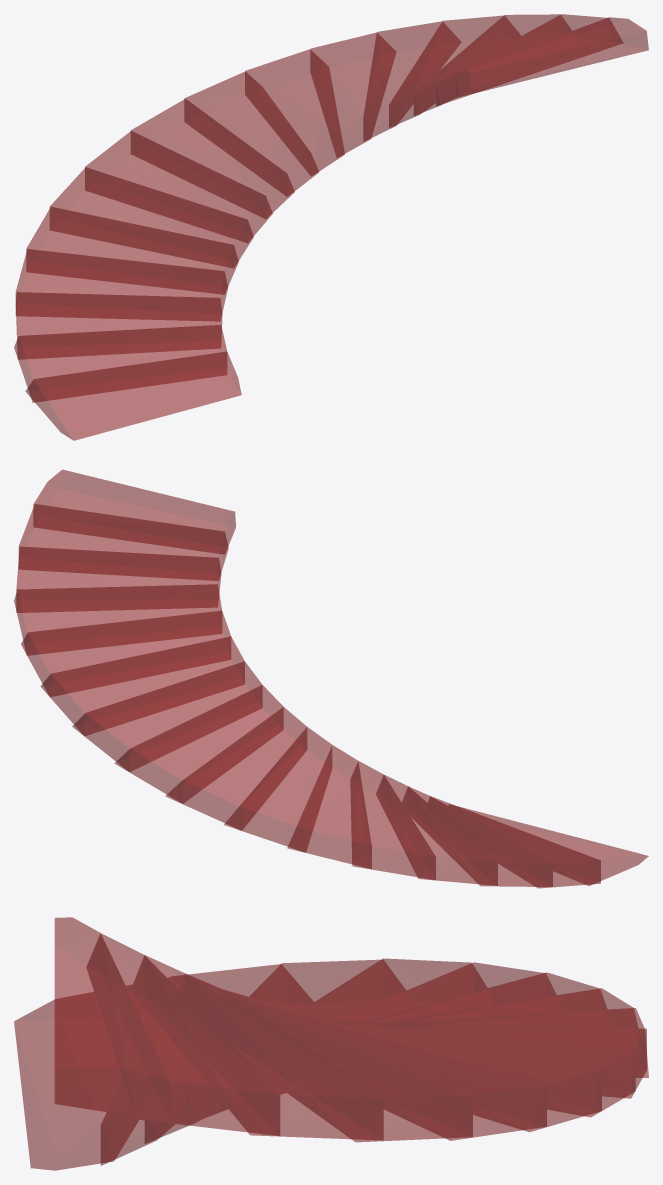
The model's file is SM_Bld_Stairs_Curved_01_Collision.fbx.
The picture shows the model from 3 angles, top to bottom: view 1: azimuth 30°, elevation 25°; view 2: azimuth 150°, elevation 25°; view 3: azimuth 270°, elevation 25°; orthographic projection. The views are drawn at different scales.
Visible parts, largest first — view 1: SM_Bld_Stairs_Curved_01_Collision; view 2: SM_Bld_Stairs_Curved_01_Collision; view 3: SM_Bld_Stairs_Curved_01_Collision.
Part boxes in pixels (x1,y1,x2,y2): SM_Bld_Stairs_Curved_01_Collision: [14, 14, 648, 440]; SM_Bld_Stairs_Curved_01_Collision: [14, 469, 648, 888]; SM_Bld_Stairs_Curved_01_Collision: [14, 917, 648, 1170].
Size of the model in its own units: 717 by 302 by 385.
